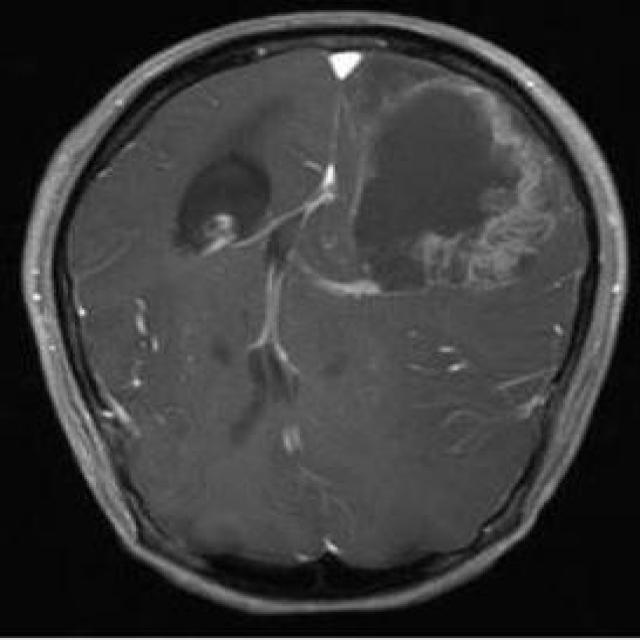brain tumor: (354, 78, 549, 292)
